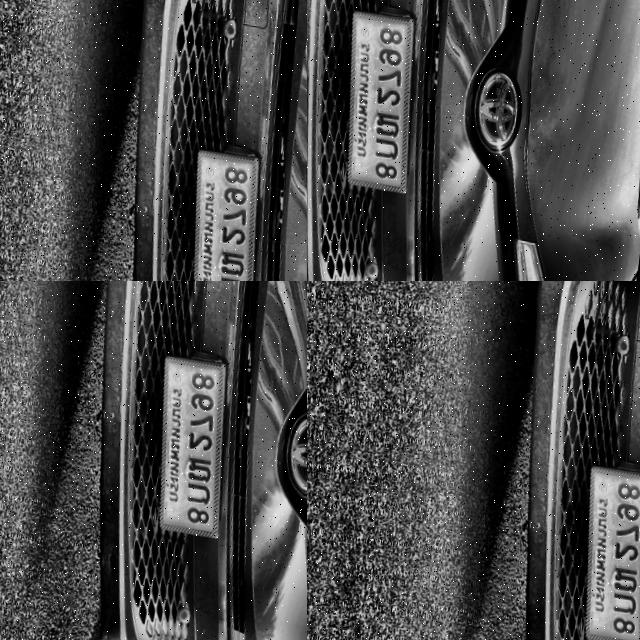license-plate: (567, 449, 640, 640), (622, 200, 640, 280)
